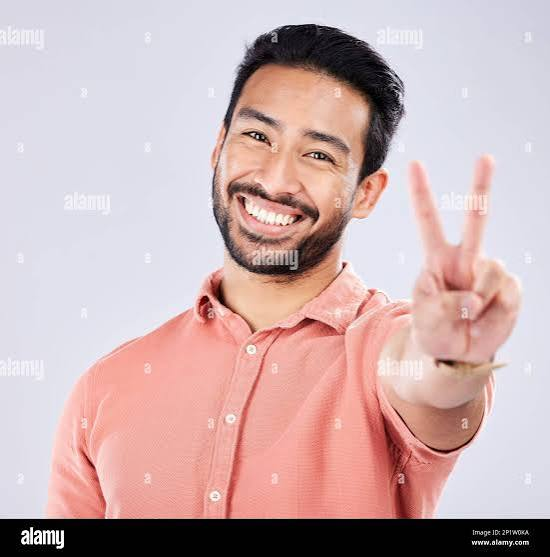peace_sign: (405, 154, 524, 369)
